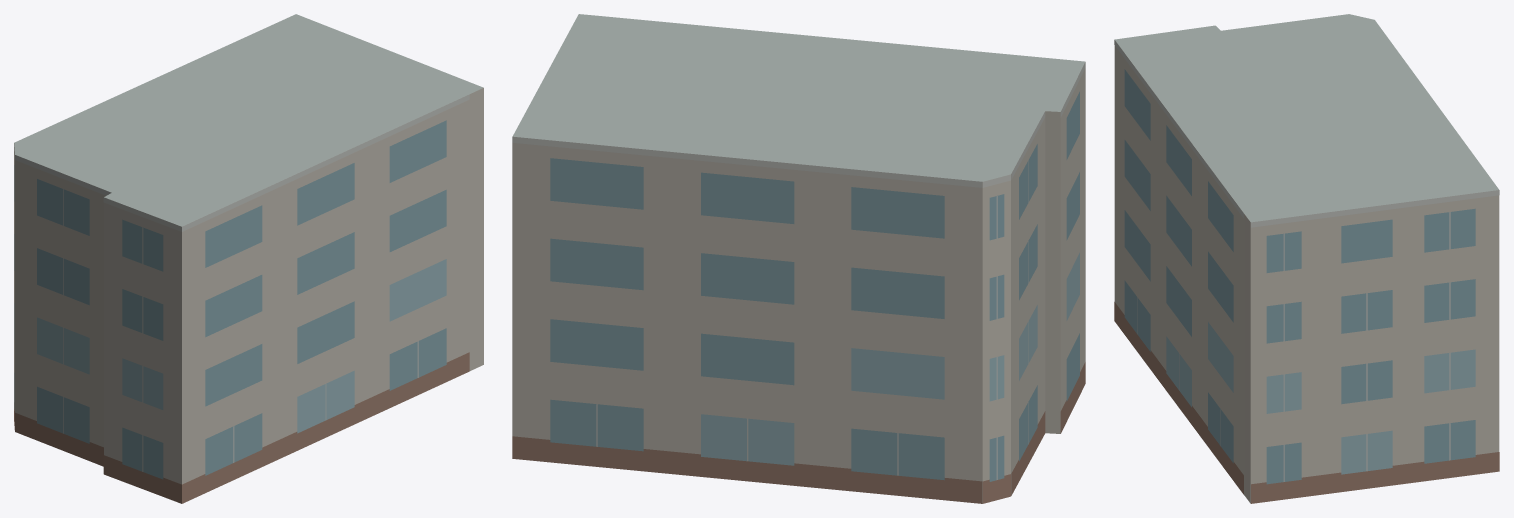
File: survey-upis-32652896.glb
3 views of the same model, side by side, from view 1: azimuth 30°, elevation 25°; view 2: azimuth 150°, elevation 25°; view 3: azimuth 270°, elevation 25° (orthographic). The views are drawn at different scales.
Parts seen in each view (by area): view 1: survey-upis-32652896.tmp; view 2: survey-upis-32652896.tmp; view 3: survey-upis-32652896.tmp.
Part boxes in pixels (<box>): survey-upis-32652896.tmp: <box>14,14,483,503</box>; survey-upis-32652896.tmp: <box>512,14,1085,503</box>; survey-upis-32652896.tmp: <box>1114,14,1499,503</box>.
Size of the model in its own units: 20.49 by 12.9 by 16.
